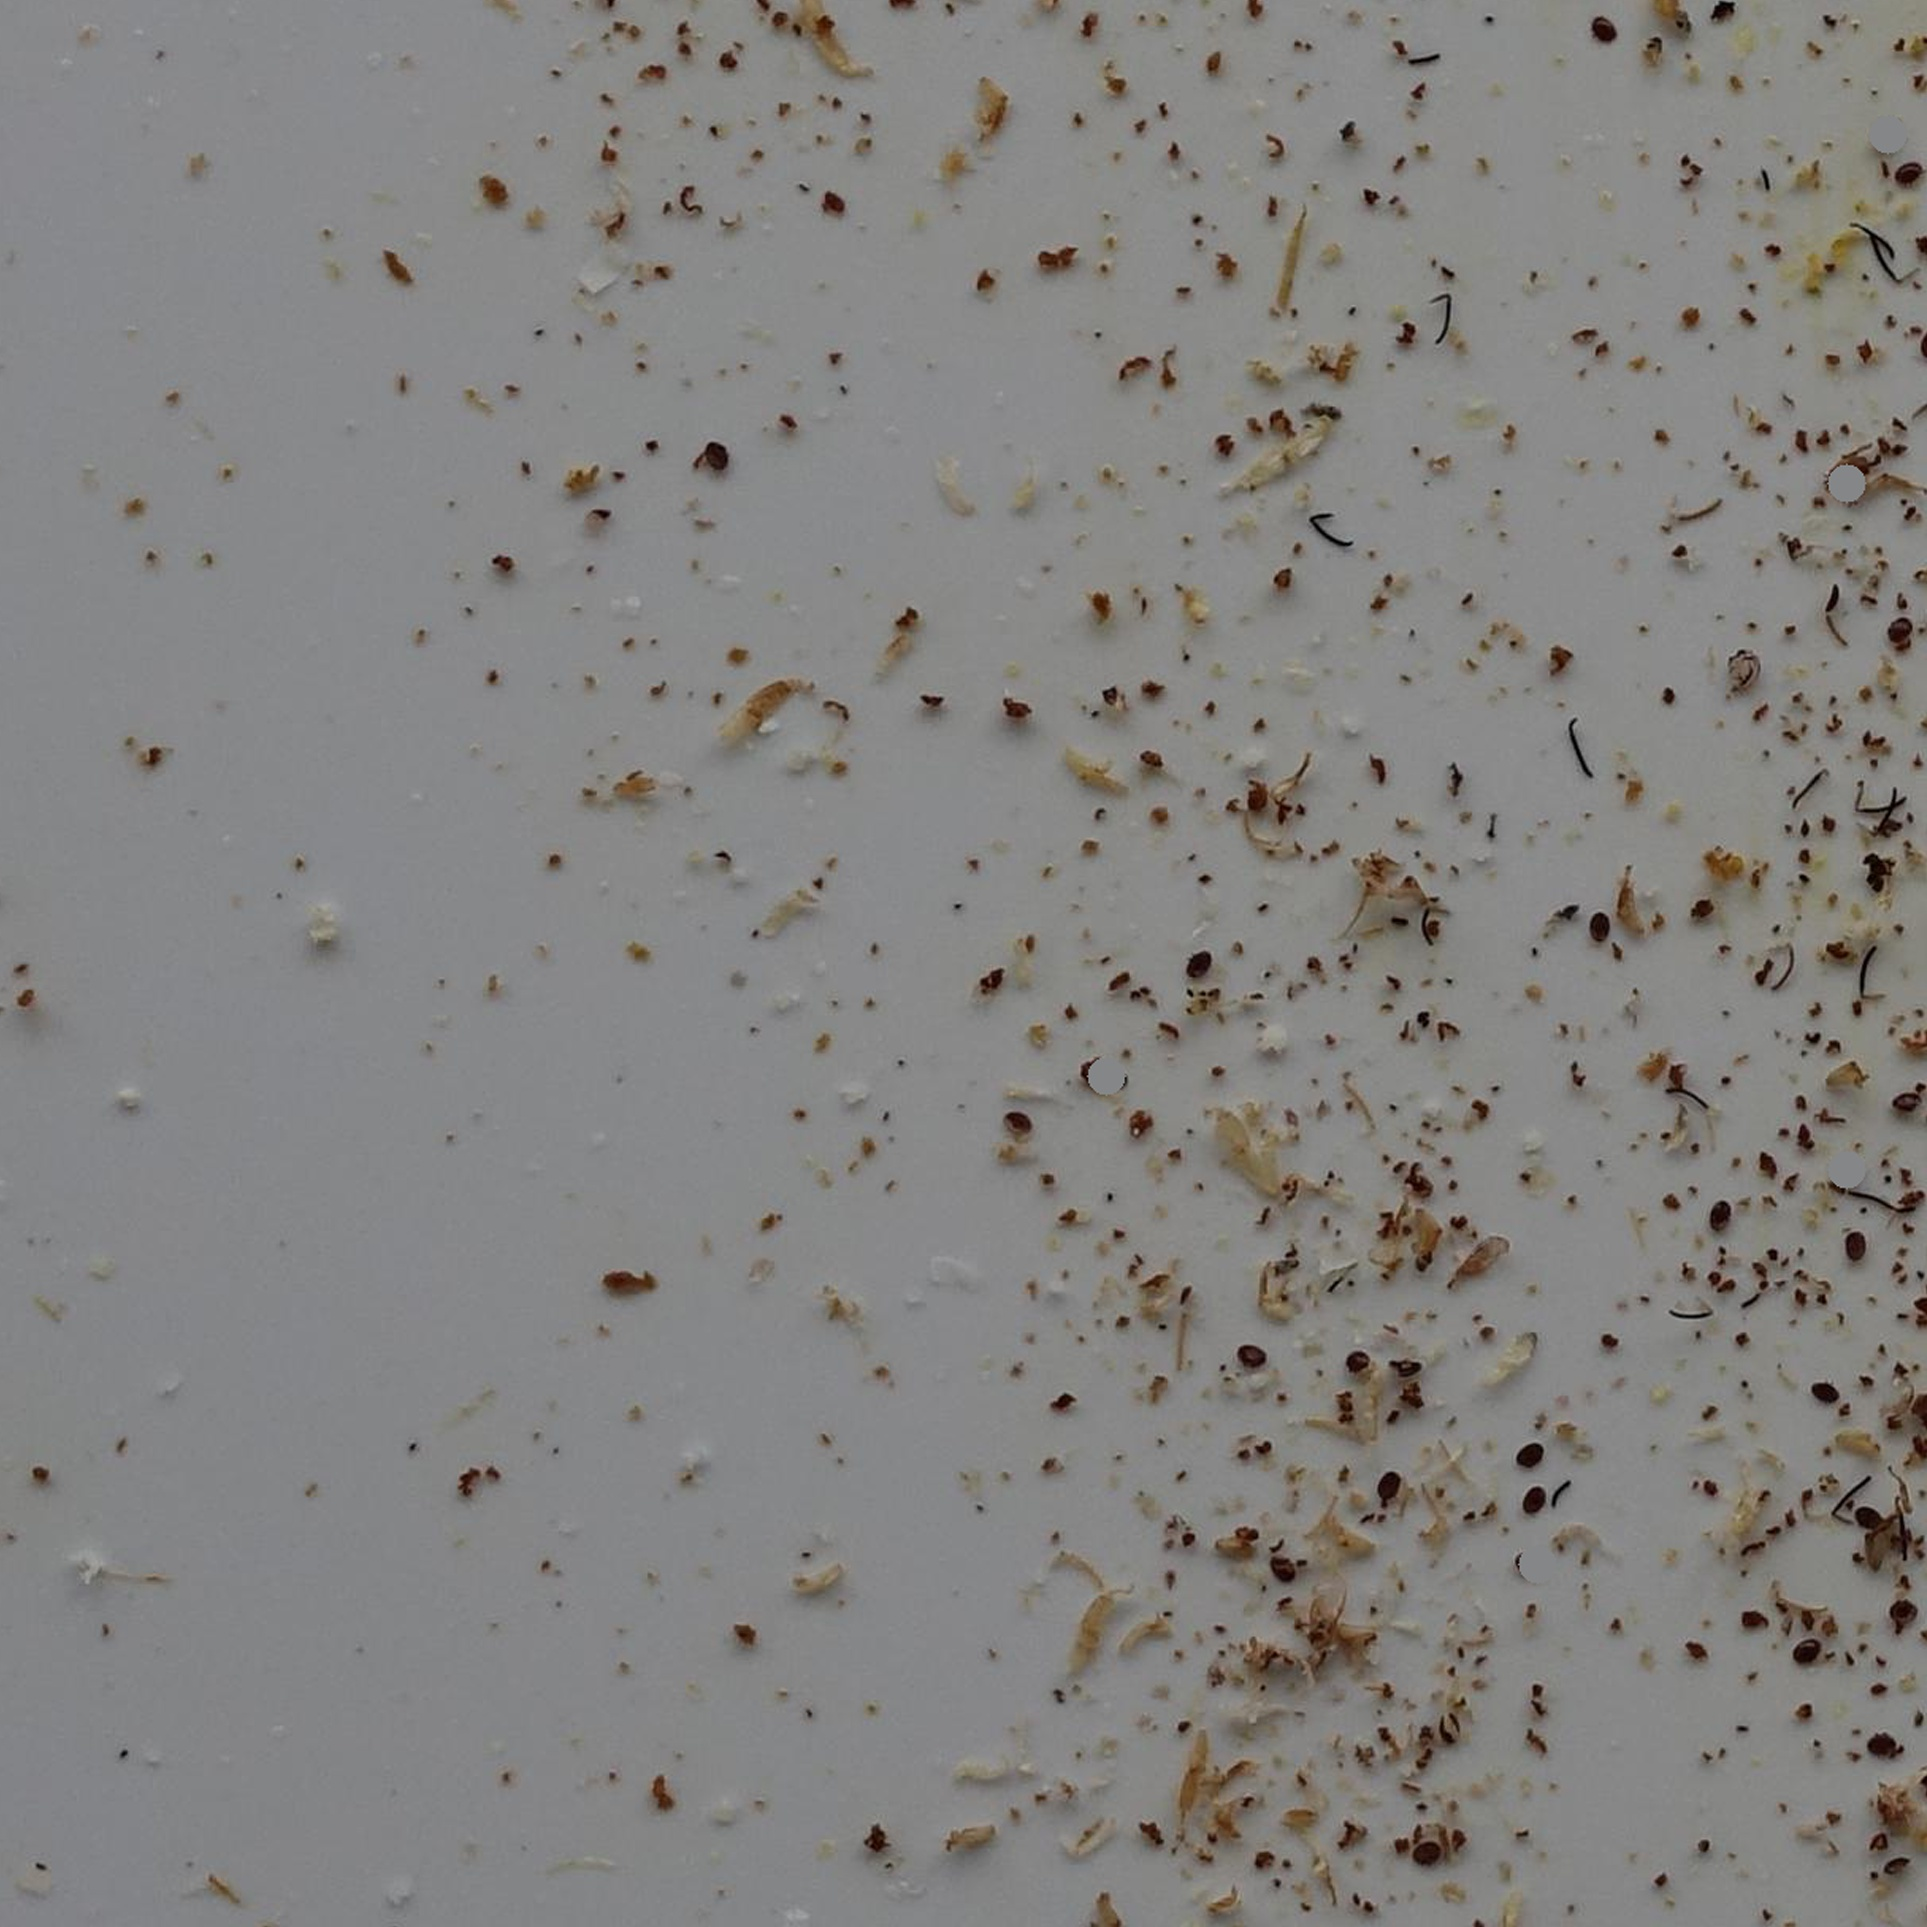Varroa: (1706, 1205, 1735, 1235), (1869, 1726, 1895, 1756), (1885, 619, 1909, 648), (1592, 21, 1616, 48), (706, 441, 731, 468), (1586, 914, 1611, 941), (1271, 1556, 1297, 1581), (1523, 1491, 1549, 1516), (1856, 1509, 1885, 1532), (1901, 1601, 1925, 1625), (1376, 1472, 1401, 1496), (1415, 1837, 1438, 1863), (1795, 1639, 1818, 1666), (1893, 1091, 1916, 1117), (1241, 1345, 1263, 1369), (1516, 1443, 1541, 1466), (1415, 1181, 1440, 1203), (1182, 955, 1205, 978), (1807, 1383, 1830, 1406), (1006, 1112, 1029, 1135), (1901, 159, 1923, 180), (1353, 1353, 1375, 1375), (1516, 1555, 1532, 1563), (1855, 1244, 1865, 1256)
